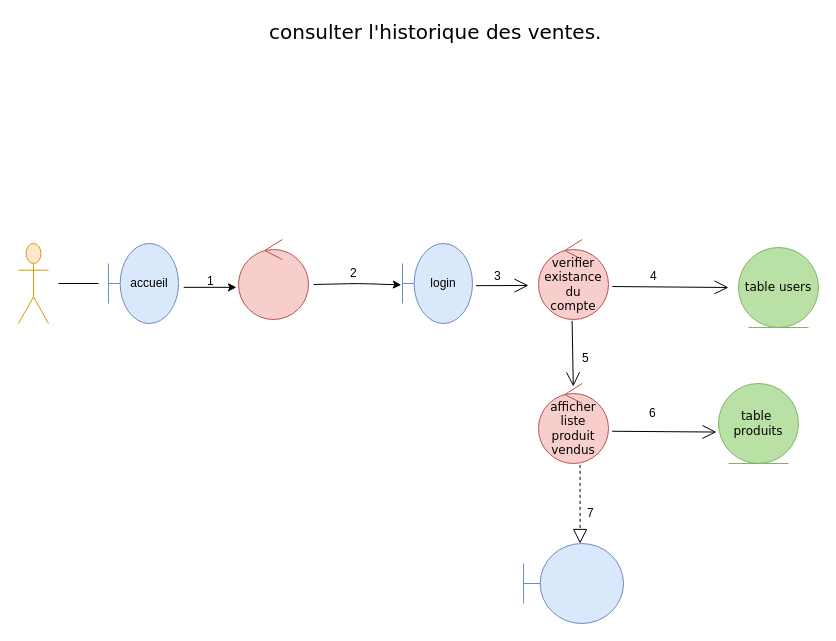
The diagram is 836 pixels wide and 641 high, and some of its shapes have lost their labels. The shapes that lost their labels are listed below. From the top down, each one's box as (x1, y1, x2, y2) in pixels, then its label:
(18, 242, 48, 324): client
(238, 238, 308, 320): se connecter
(522, 542, 624, 624): liste produits vendus
